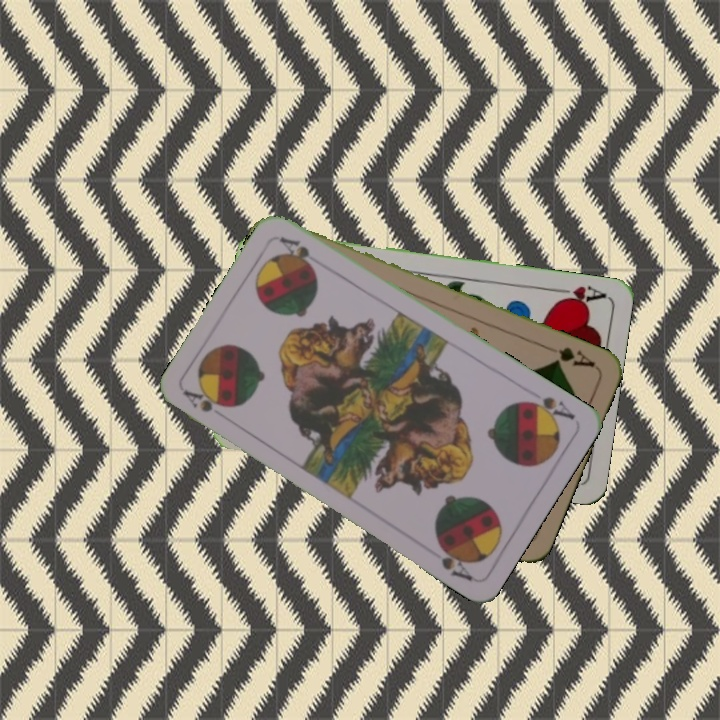GA: (549, 343, 598, 370)
HA: (548, 281, 608, 309)
SA: (519, 392, 578, 426), (180, 386, 226, 415)
